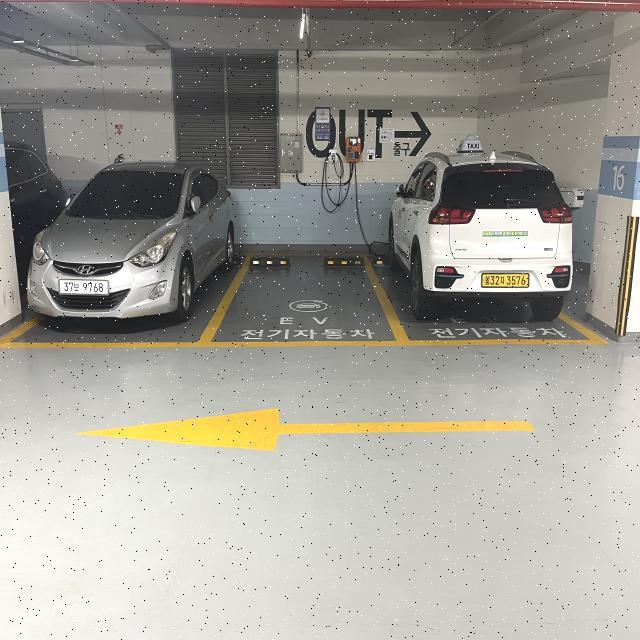empty: (215, 247, 386, 344)
occupied: (375, 124, 591, 339), (18, 146, 217, 352)
